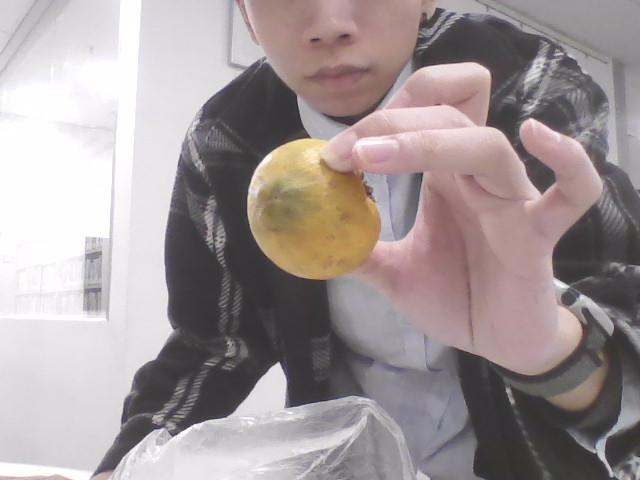lemon: (246, 137, 380, 281)
